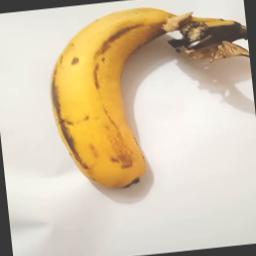Banana Unripe: (39, 0, 256, 191)
